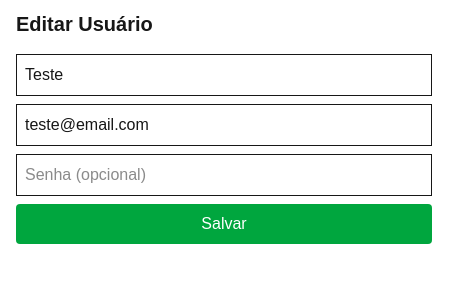
Test: EditUserPage › valida nome obrigatório
This screenshot has width=449, height=289.
Clear the 1st field showing "Teste" at (224, 75), box [16,54,432,96]
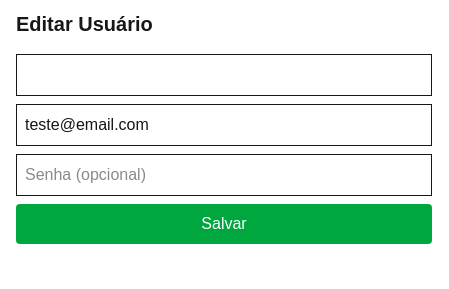
Click the button "Salvar" at (224, 224), box [16,204,432,244]
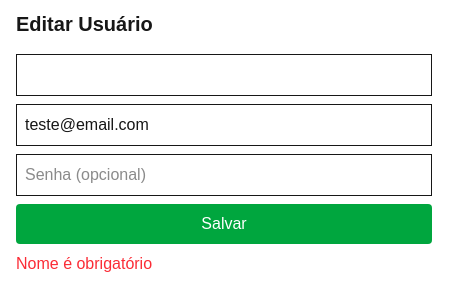
Now the text "Nome é obrigatório" is shown, box [16,255,152,272]
